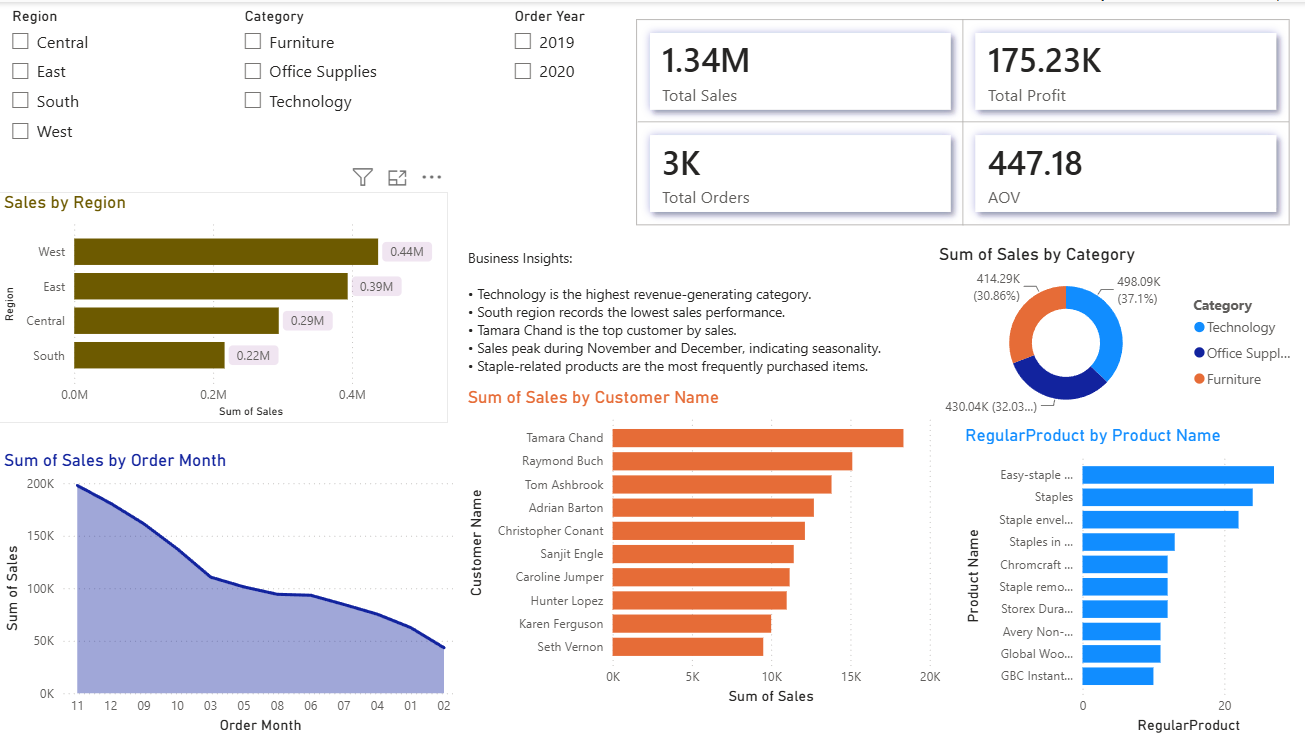

Layout of this report page (visuals, bound fields, positions):
{"tool":"powerbi","page":{"name":"Page 1","canvas":[1280,720],"ordinal":0},"visuals":[{"type":"cardVisual","fields":{"Data":["Orders.Total Sales","Orders.Total Profit","Orders.Total Orders","Orders.AOV"]},"box":[606.5,0,673.8,236],"z":0},{"type":"lineChart","fields":{"Y":["Sum(Orders.Sales)"],"Category":["Orders.Order Month"]},"box":[0,437.8,453.7,282.5],"z":1000},{"type":"donutChart","fields":{"Category":["Orders.Category"],"Y":["Sum(Orders.Sales)"]},"box":[914.7,236,365.6,176.1],"z":2000},{"type":"barChart","fields":{"Y":["Orders.RegularProduct"],"Category":["Orders.Product Name"]},"box":[940.4,413.3,339.9,306.9],"z":3000},{"type":"clusteredBarChart","title":"Sales by Region","fields":{"Category":["Orders.Region"],"Y":["Sum(Orders.Sales)"]},"box":[0,185.9,439,226.2],"z":4000},{"type":"barChart","fields":{"Y":["Sum(Orders.Sales)"],"Category":["Orders.Customer Name"]},"box":[453.7,376.6,472,315.5],"z":5000},{"type":"slicer","fields":{"Values":["Orders.Region"]},"box":[0,0,365.6,145.5],"z":6000},{"type":"slicer","fields":{"Values":["Orders.Category"]},"box":[227.4,0,160.2,156.5],"z":7000},{"type":"slicer","fields":{"Values":["Orders.Order Year"]},"box":[491.6,0,130.8,156.5],"z":8000},{"type":"textbox","box":[453.7,236,441.4,140.6],"z":8001}]}

Visuals, with their boxes in screenshot pixels (x1, y1, x2, y2), scaled from the page's 1280x720 canvas onto the 1305x737 screenshot:
cardVisual - Orders.Total Sales x Orders.Total Profit: 618 0 1304 242
lineChart - Sum(Orders.Sales) x Orders.Order Month: 0 448 463 736
donutChart - Orders.Category x Sum(Orders.Sales): 933 242 1304 422
barChart - Orders.RegularProduct x Orders.Product Name: 959 423 1304 736
"Sales by Region" clusteredBarChart: 0 190 448 422
barChart - Sum(Orders.Sales) x Orders.Customer Name: 463 385 944 708
slicer - Orders.Region: 0 0 373 149
slicer - Orders.Category: 232 0 395 160
slicer - Orders.Order Year: 501 0 635 160
textbox: 463 242 913 385
